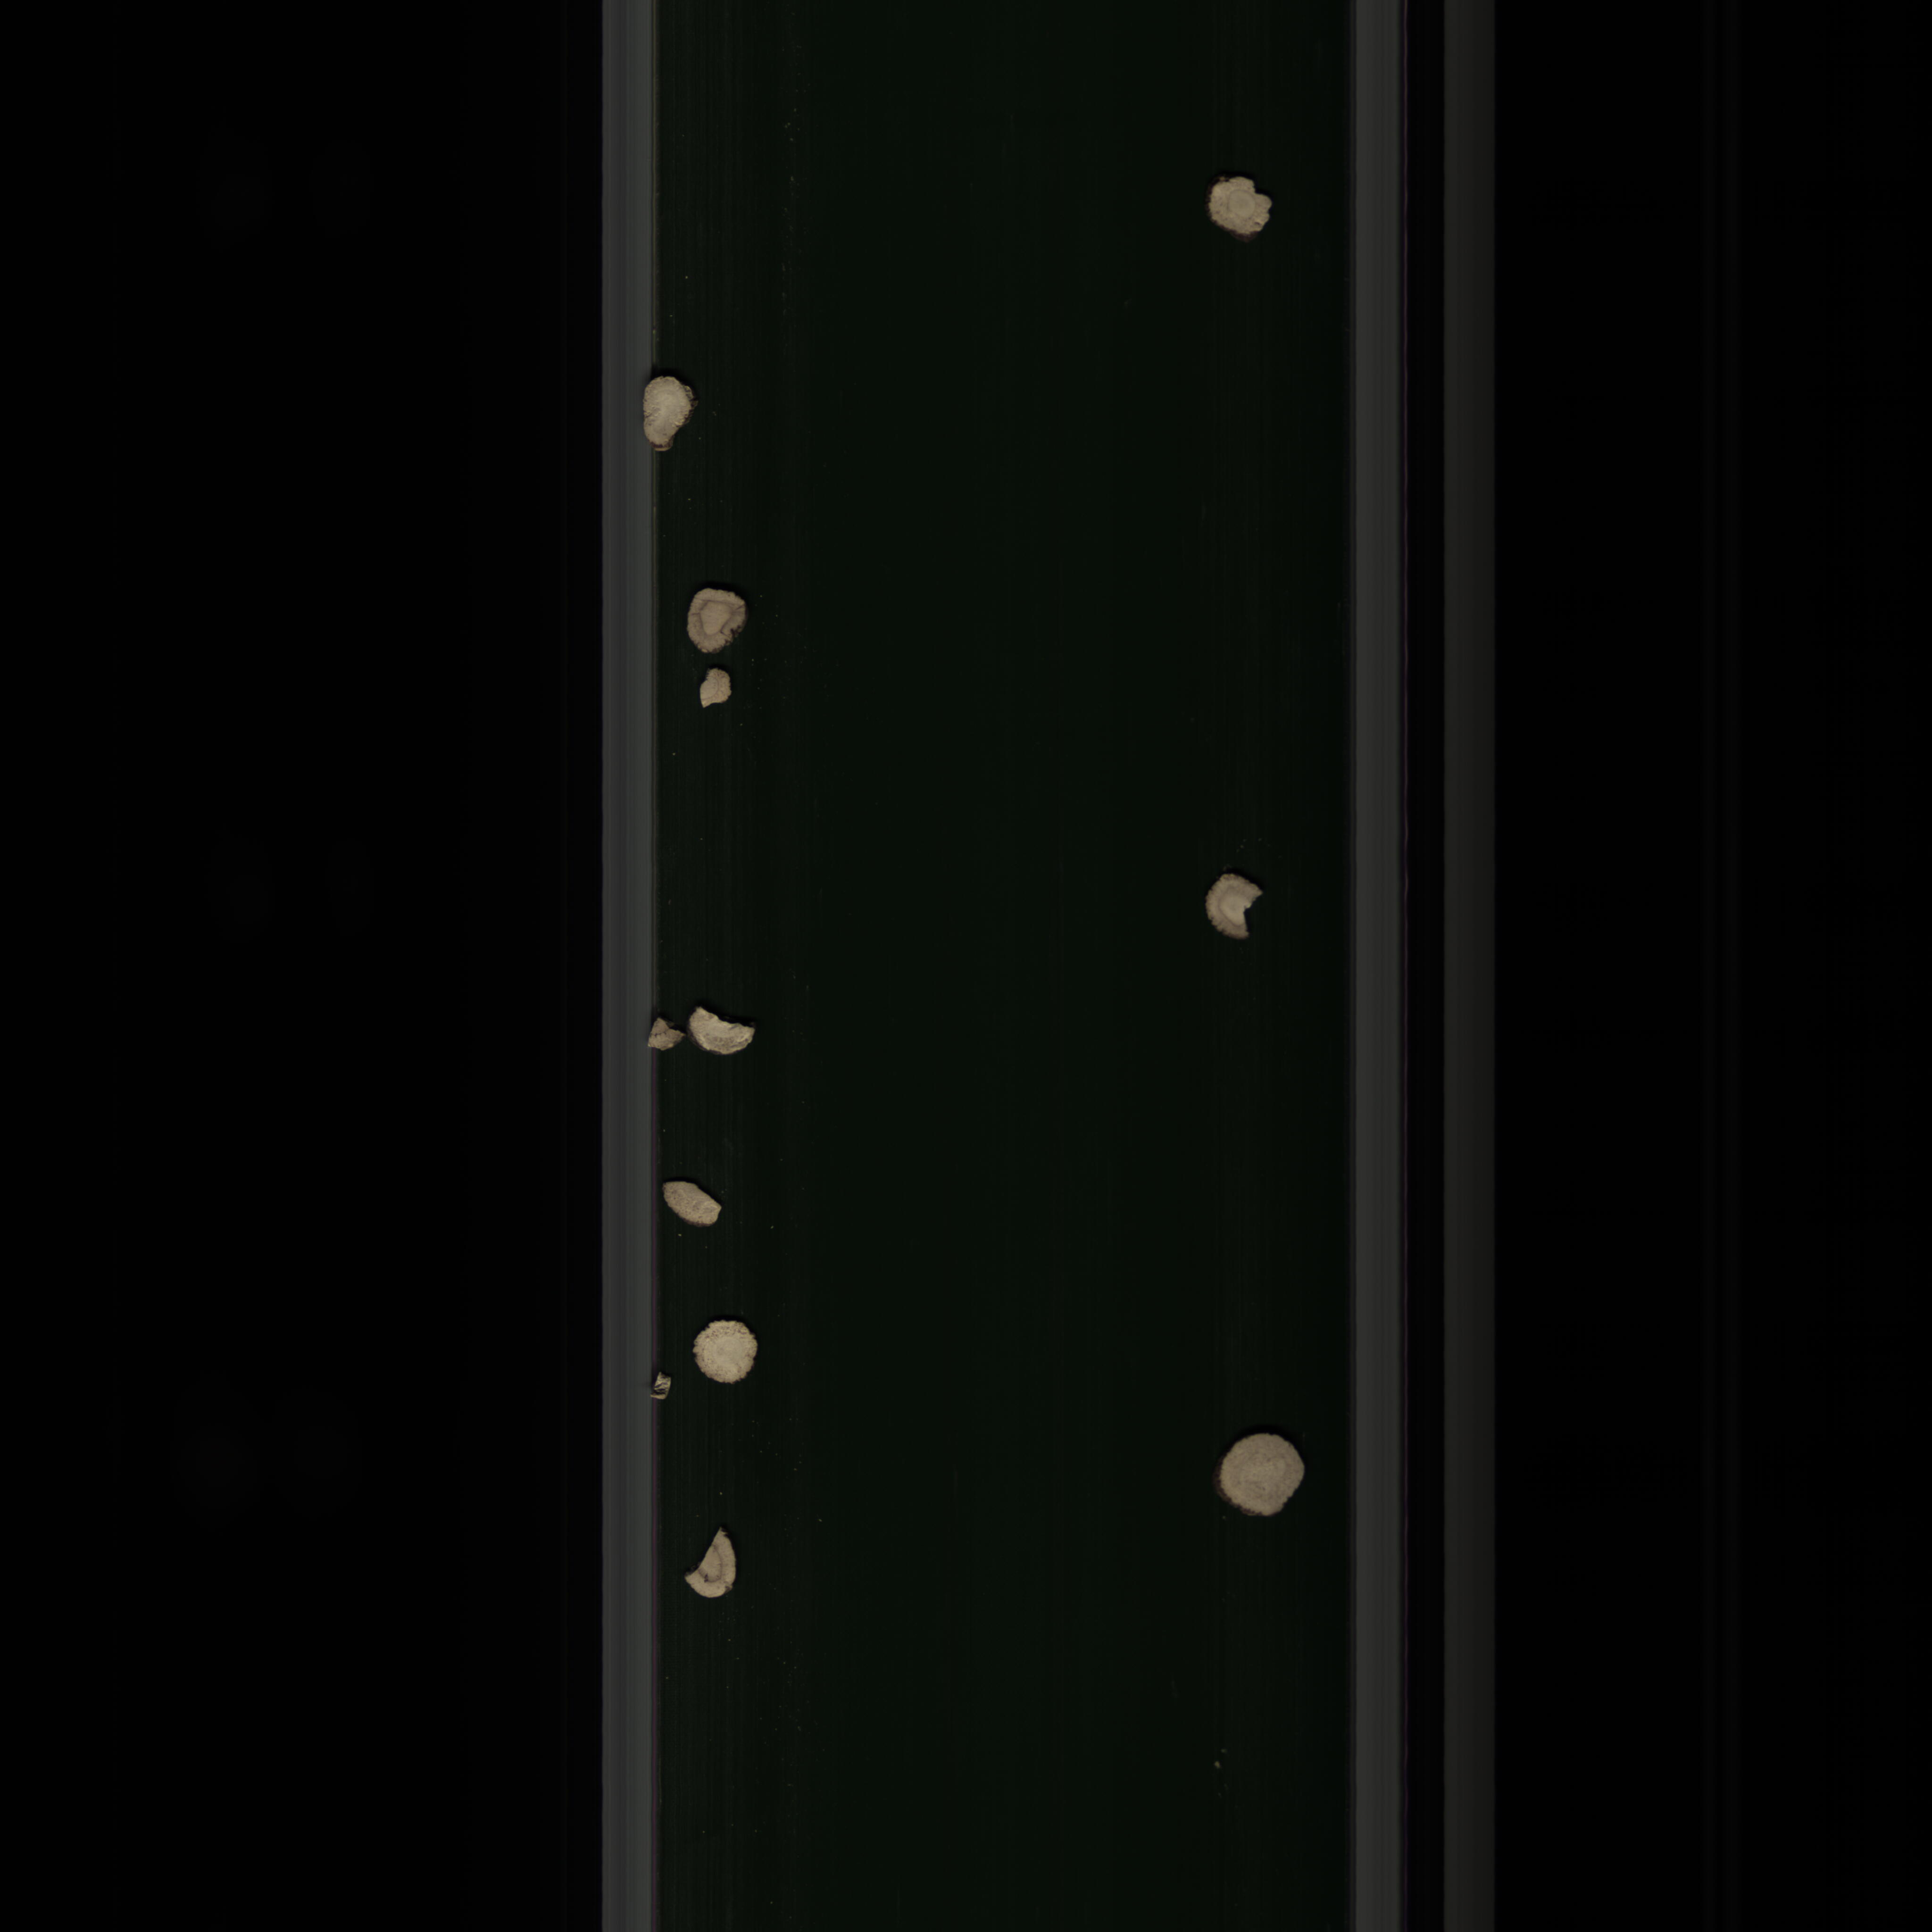debris: (649, 1173, 743, 1235), (679, 1516, 734, 1608), (1205, 860, 1261, 948), (688, 998, 763, 1062), (640, 1014, 686, 1060), (694, 665, 734, 717)
distortion: (1205, 161, 1279, 248), (637, 373, 697, 464)
